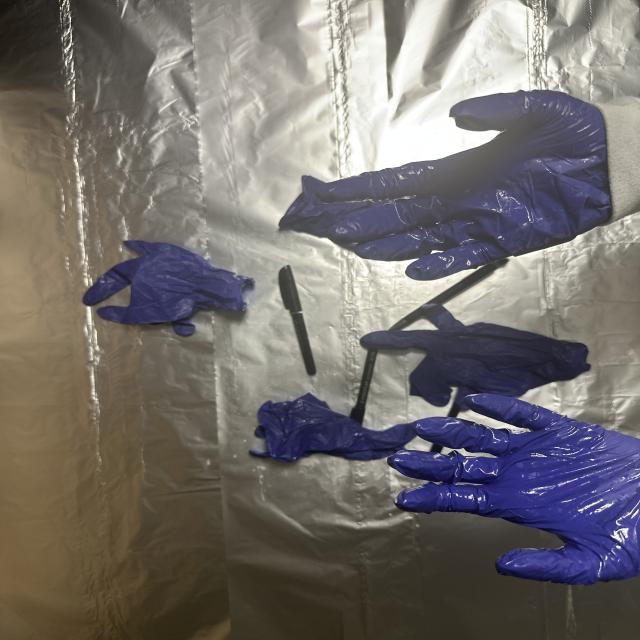gloves_contaminated: (312, 90, 613, 280), (388, 394, 640, 584)
